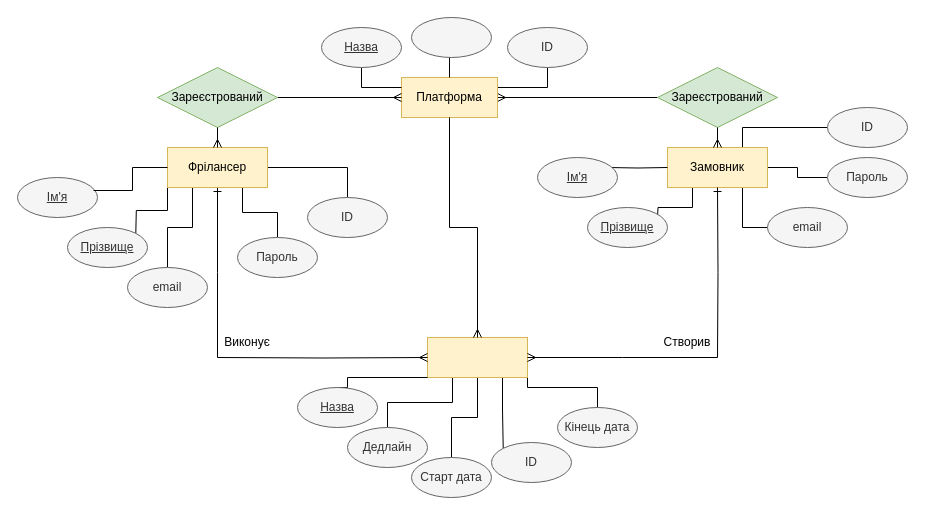
This 925x515 diagram has some shape labels left out. The centre of each missing label's shape, as x and y in pixels:
Дата створення: the point at 451,37
Проект: the point at 477,357
